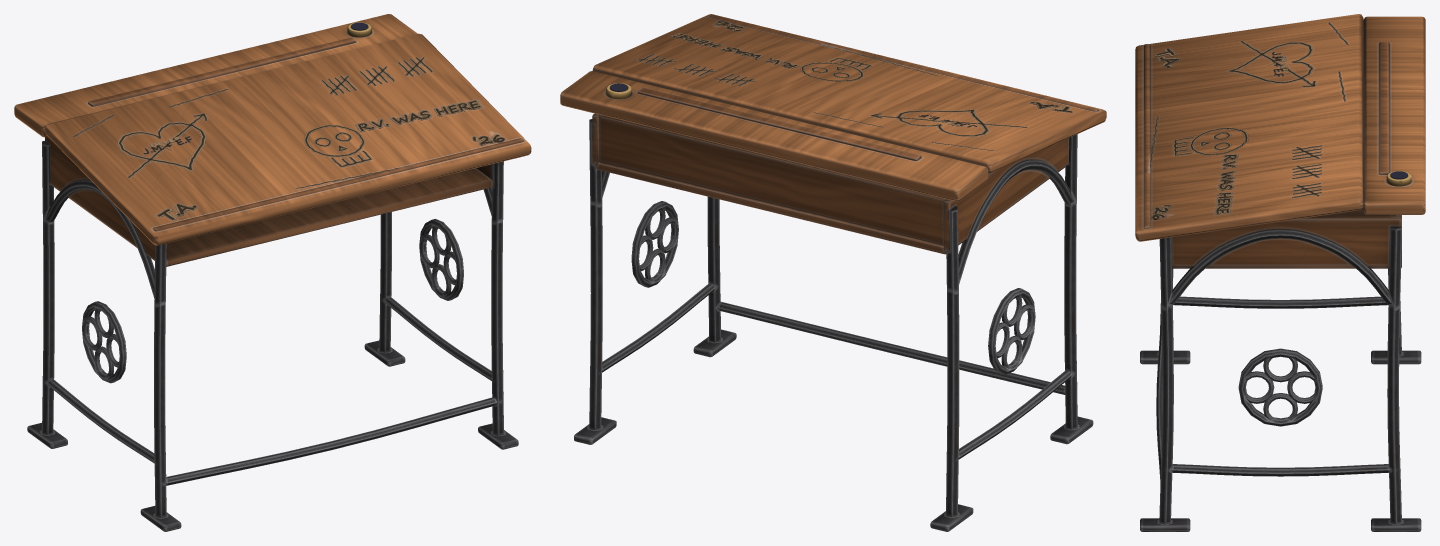
File: StudentDeskCarved.fbx
3 renders of one model, left to right at view 1: azimuth 30°, elevation 25°; view 2: azimuth 150°, elevation 25°; view 3: azimuth 270°, elevation 25°, orthographic. The views are drawn at different scales.
Visible parts, largest first — view 1: StudentDeskCarved; view 2: StudentDeskCarved; view 3: StudentDeskCarved.
Boxes of the visible parts, x1,y1,x2,y2 form: StudentDeskCarved: (14,14,531,531); StudentDeskCarved: (560,14,1106,531); StudentDeskCarved: (1135,14,1425,531).
Bounding box in the file's own units: 300 × 255 × 196.
